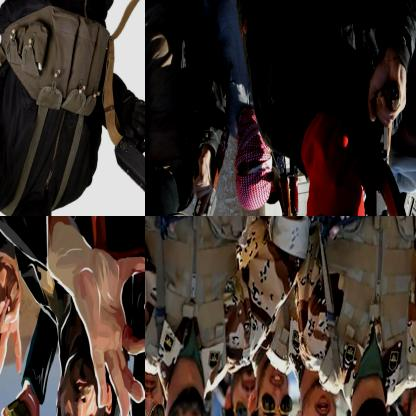rifle: (365, 53, 416, 215), (145, 133, 227, 215), (309, 216, 415, 249), (146, 216, 269, 242), (274, 151, 302, 215)
